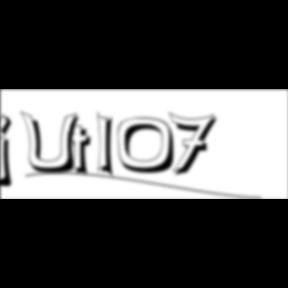7: (168, 111, 224, 179)
I: (97, 110, 121, 182)
O: (118, 117, 182, 176)
U: (21, 110, 86, 176)
j: (1, 113, 20, 191)
t: (68, 124, 100, 179)
